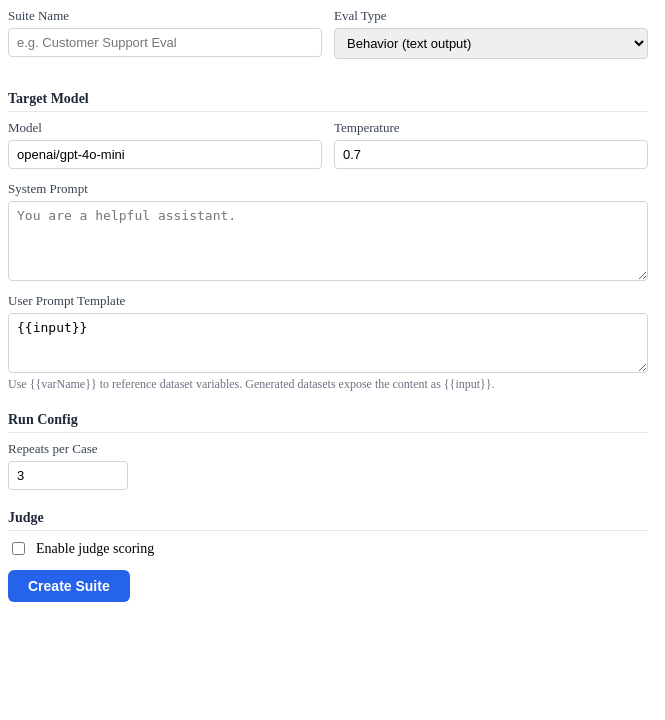
SuiteForm › shows ToolSchemaEditor when type switches to tool_use
This screenshot has width=665, height=720.
Select "Tool Use" in the dropdown labelled "Eval Type" at (491,44), box [334,28,648,59]
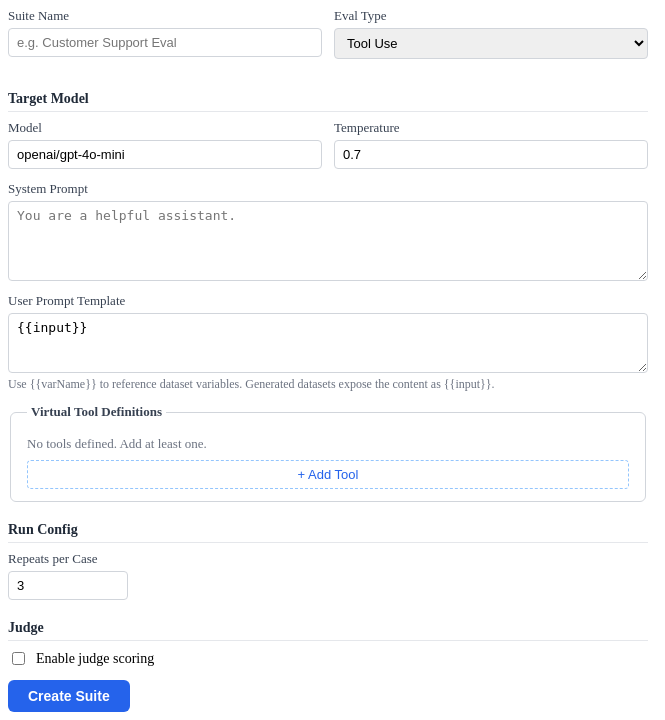
Now the text "Virtual Tool Definitions" is shown, box [27,404,166,420]
